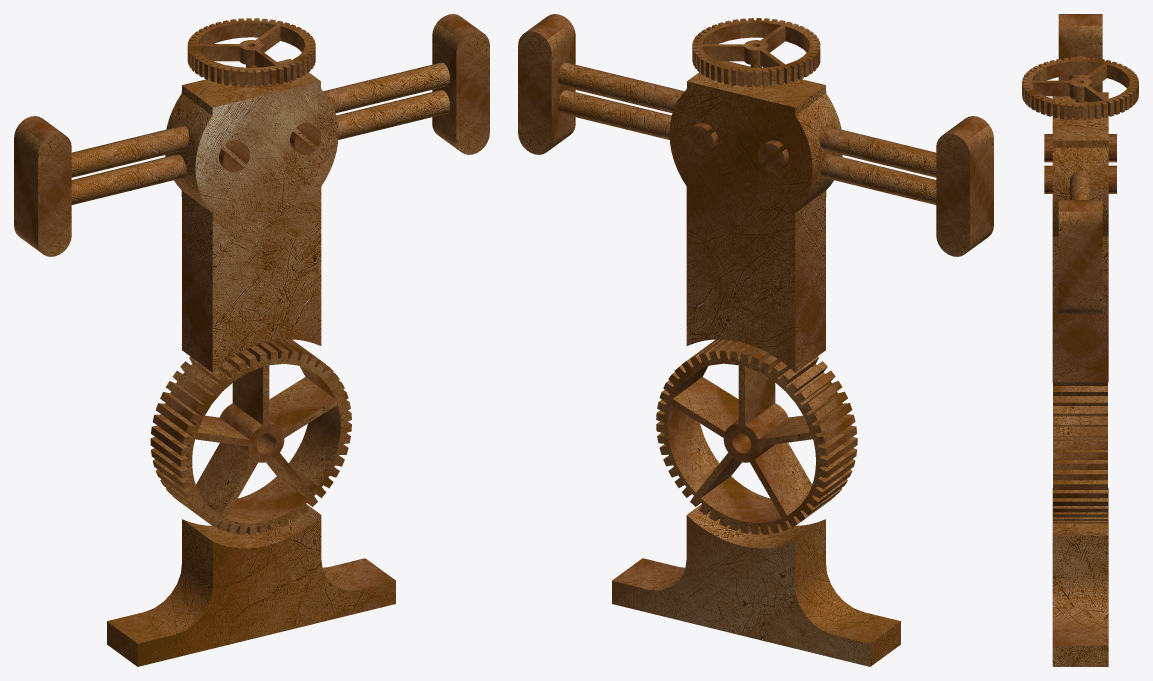
The picture shows the model from 3 angles, left to right: view 1: azimuth 30°, elevation 25°; view 2: azimuth 150°, elevation 25°; view 3: azimuth 270°, elevation 25°; orthographic projection. The views are drawn at different scales.
Visible parts, largest first — view 1: R_Elements_029, Cogwheel_217, R_Elements_016, R_Elements_018, Cogwheel_216, R_Elements_015, Tube_357, Tube_355, Screw_801; view 2: R_Elements_029, Cogwheel_217, R_Elements_016, R_Elements_018, Cogwheel_216, R_Elements_015, Tube_357, Tube_355, Screw_801, Screw_800; view 3: R_Elements_029, R_Elements_016, Cogwheel_217, Cogwheel_216, R_Elements_015, R_Elements_018, Tube_357, Screw_800, Screw_801.
Part boxes in pixels (bbox=[...]): R_Elements_029: bbox=[165, 59, 338, 372]; Cogwheel_217: bbox=[150, 339, 351, 534]; R_Elements_016: bbox=[107, 504, 395, 666]; R_Elements_018: bbox=[14, 116, 71, 256]; Cogwheel_216: bbox=[187, 18, 315, 87]; R_Elements_015: bbox=[432, 14, 489, 154]; Tube_357: bbox=[71, 62, 449, 177]; Tube_355: bbox=[71, 90, 449, 204]; Screw_801: bbox=[290, 123, 321, 154]; R_Elements_029: bbox=[669, 61, 842, 372]; Cogwheel_217: bbox=[656, 339, 857, 534]; R_Elements_016: bbox=[612, 504, 900, 666]; R_Elements_018: bbox=[936, 116, 993, 256]; Cogwheel_216: bbox=[692, 18, 820, 87]; R_Elements_015: bbox=[518, 14, 575, 154]; Tube_357: bbox=[558, 62, 936, 177]; Tube_355: bbox=[558, 90, 936, 204]; Screw_801: bbox=[686, 123, 717, 154]; Screw_800: bbox=[758, 140, 788, 172]; R_Elements_029: bbox=[1052, 92, 1108, 382]; R_Elements_016: bbox=[1052, 488, 1108, 666]; Cogwheel_217: bbox=[1053, 382, 1107, 523]; Cogwheel_216: bbox=[1022, 57, 1138, 120]; R_Elements_015: bbox=[1058, 200, 1102, 314]; R_Elements_018: bbox=[1058, 14, 1102, 92]; Tube_357: bbox=[1070, 55, 1091, 199]; Screw_800: bbox=[1044, 134, 1116, 162]; Screw_801: bbox=[1044, 165, 1116, 193].
Size of the model in its own units: 84.63 by 104 by 20.79.
Materials: 1 (1 with a texture image).
